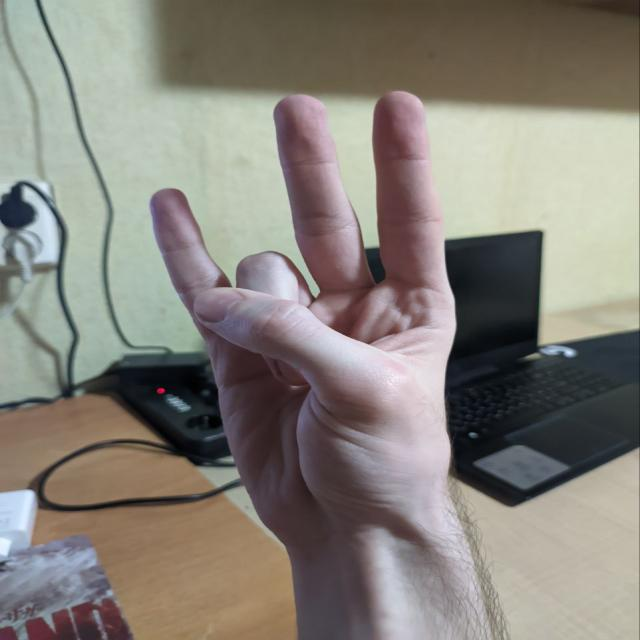n: (82, 68, 490, 502)
